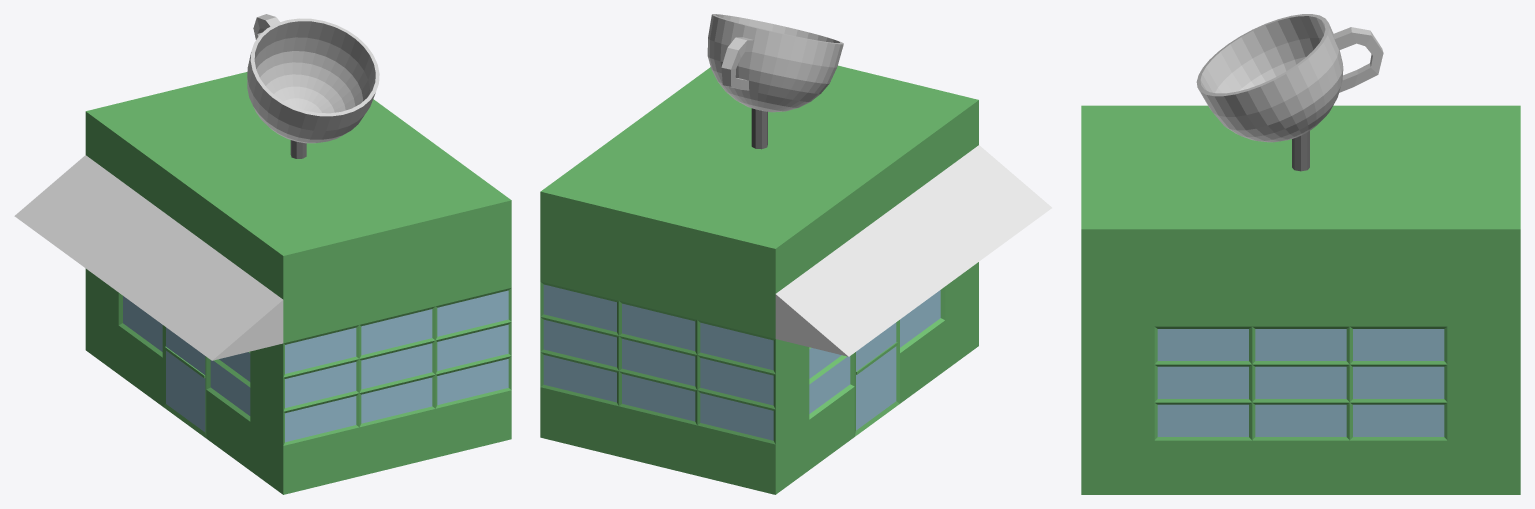
File: CoffeeHouse.fbx
The picture shows the model from 3 angles, left to right: view 1: azimuth 30°, elevation 25°; view 2: azimuth 150°, elevation 25°; view 3: azimuth 270°, elevation 25°; orthographic projection. The views are drawn at different scales.
Parts seen in each view (by area): view 1: CoffeeHouse, CoffeeCup; view 2: CoffeeHouse, CoffeeCup, CupSupport; view 3: CoffeeHouse, CoffeeCup, CupSupport.
Boxes of the visible parts, <box> form: CoffeeHouse: <box>14,72,511,494</box>; CoffeeCup: <box>247,14,379,143</box>; CoffeeHouse: <box>540,65,1051,494</box>; CoffeeCup: <box>707,14,843,112</box>; CupSupport: <box>751,108,767,149</box>; CoffeeHouse: <box>1081,105,1520,494</box>; CoffeeCup: <box>1196,14,1383,142</box>; CupSupport: <box>1292,131,1309,171</box>.
Size of the model in its own units: 525 by 611 by 600.
